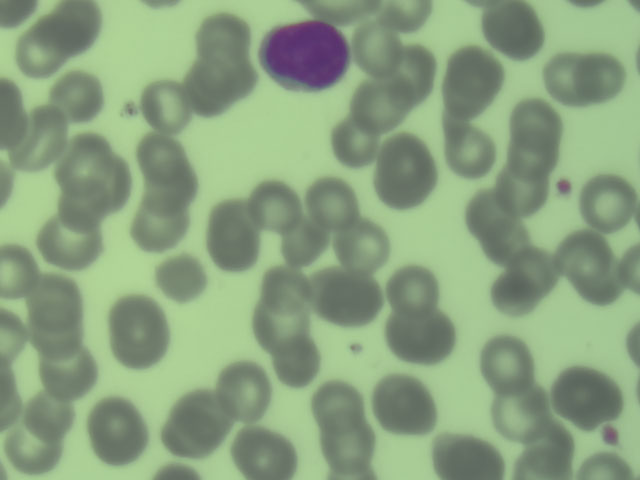Platelets: (597, 423, 627, 448), (554, 177, 578, 199), (119, 97, 139, 121)
RBC: (375, 137, 436, 203), (555, 366, 619, 424), (442, 48, 502, 109), (112, 298, 164, 366), (485, 1, 541, 61), (377, 370, 432, 428), (240, 428, 301, 480), (437, 434, 505, 480), (89, 402, 144, 457), (165, 400, 222, 453), (319, 273, 378, 323), (392, 312, 448, 362), (210, 203, 257, 262), (219, 364, 271, 417), (40, 222, 97, 270), (493, 380, 545, 432), (308, 176, 357, 226), (504, 162, 551, 213), (386, 265, 434, 310), (339, 224, 387, 269), (256, 260, 304, 305), (251, 305, 299, 350), (275, 341, 323, 386), (277, 220, 325, 265), (578, 265, 626, 310), (561, 229, 609, 274), (586, 179, 634, 224), (492, 275, 540, 320), (511, 248, 559, 293), (482, 219, 530, 264), (462, 190, 510, 235), (510, 136, 558, 181), (513, 100, 561, 145), (573, 54, 621, 99), (541, 55, 589, 100), (447, 130, 495, 175), (328, 121, 376, 166), (354, 84, 402, 129), (386, 50, 434, 95), (355, 25, 403, 70), (250, 183, 298, 228), (157, 255, 205, 300), (8, 426, 56, 471), (27, 394, 75, 439), (43, 348, 91, 393), (29, 313, 77, 358), (31, 276, 79, 321), (136, 206, 184, 251), (143, 166, 191, 211), (136, 134, 184, 179), (179, 74, 227, 119), (206, 48, 254, 93), (199, 11, 247, 56), (140, 87, 188, 132), (60, 139, 108, 184), (15, 115, 63, 160), (54, 73, 102, 118), (15, 34, 63, 79), (323, 420, 371, 465), (314, 379, 362, 424), (527, 421, 575, 466), (482, 336, 530, 381), (1, 238, 34, 303), (53, 1, 101, 45), (62, 184, 109, 228), (380, 1, 435, 30), (512, 454, 568, 480), (1, 95, 28, 148), (1, 310, 22, 364)
WBC: (259, 17, 354, 96)
